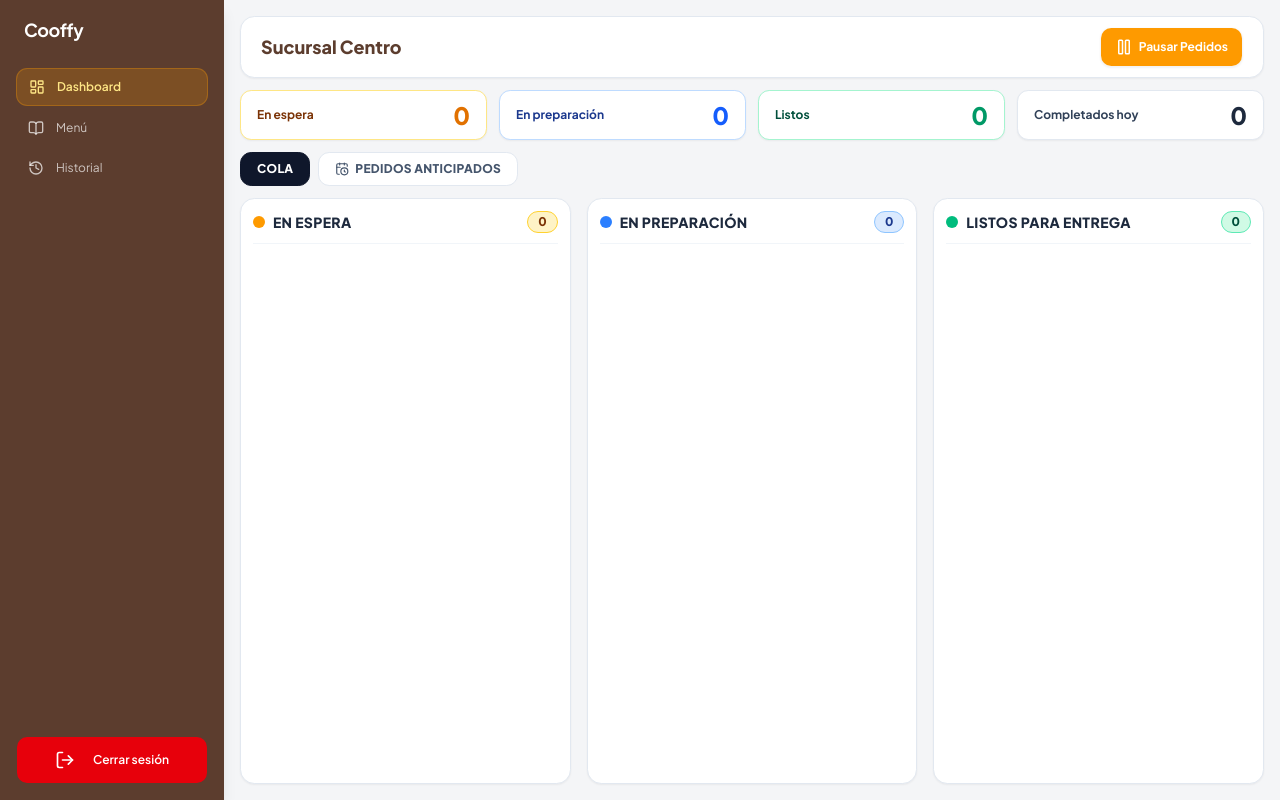
KitchenView — RF-14 pedidos anticipados › muestra el nombre del cliente cuando client_name viene en el pre-order
Click the tab with test id "kitchen-tab-upcoming". click: (418, 169)
box: [318,152,518,186]
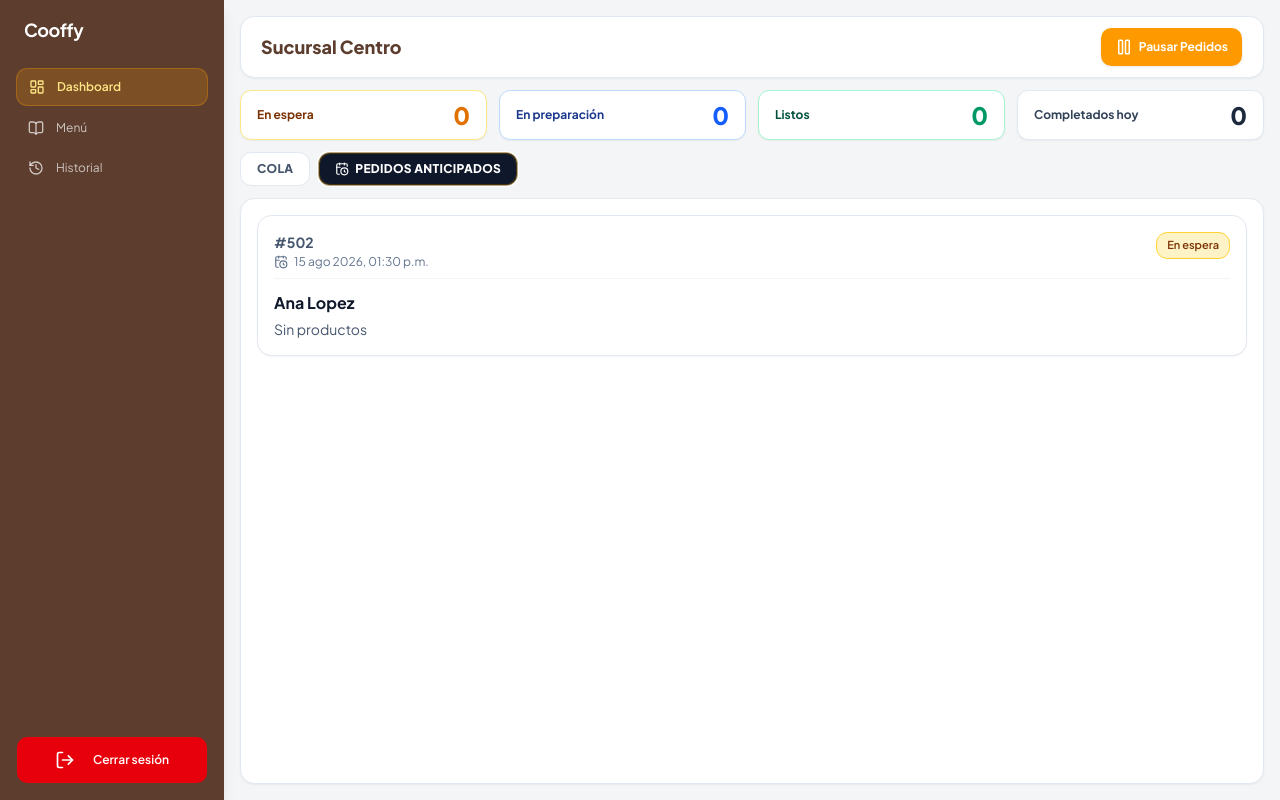
Expected: the text with test id "preorder-client-name" reads "Ana Lopez", [274,292,354,313]
